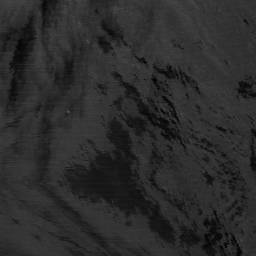Target: (64, 109, 72, 114)
